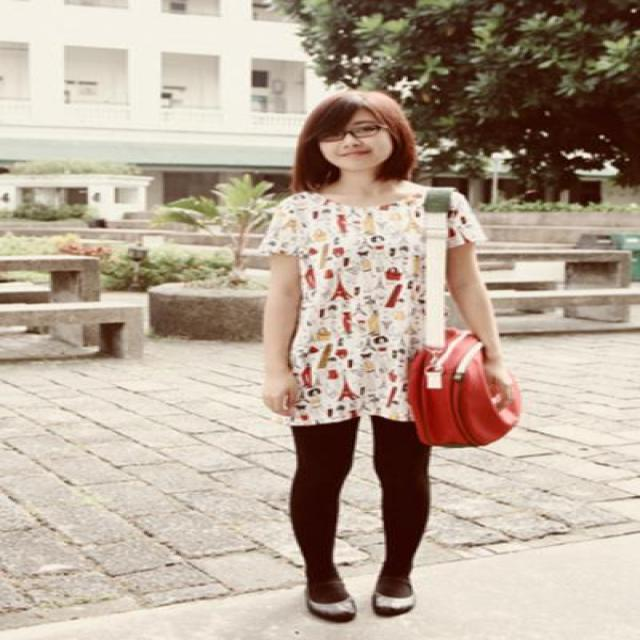bag: (403, 179, 536, 447)
dress: (250, 171, 478, 432)
shoe: (304, 580, 416, 639)
